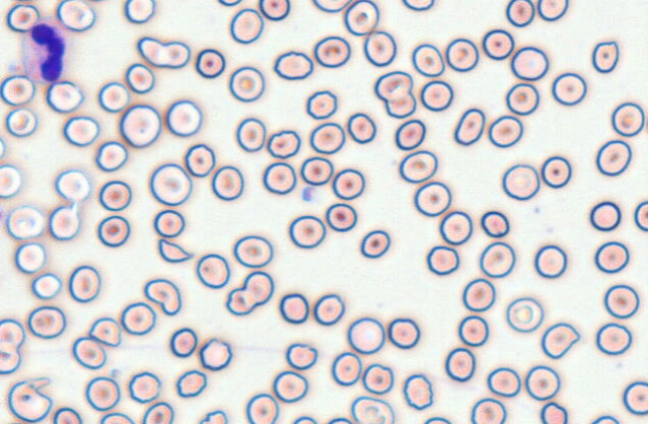GRAN: (20, 15, 72, 86)
PLT: (300, 185, 320, 204)
RBC: (119, 103, 162, 148), (149, 162, 192, 206), (137, 36, 190, 69), (346, 316, 385, 354), (5, 204, 46, 240), (501, 163, 540, 200), (165, 99, 202, 137), (510, 45, 549, 81), (595, 139, 632, 176), (505, 296, 543, 332), (413, 180, 451, 216), (233, 234, 273, 268), (524, 364, 560, 401), (479, 241, 515, 278), (228, 65, 264, 102), (27, 305, 66, 339), (398, 149, 437, 183), (603, 283, 639, 319), (343, 0, 379, 36), (288, 214, 326, 248), (46, 79, 84, 113), (68, 264, 101, 303), (195, 252, 230, 288), (229, 7, 263, 44), (374, 70, 413, 102), (350, 395, 394, 423), (85, 376, 120, 411), (54, 168, 90, 202), (120, 301, 156, 335), (595, 322, 632, 355), (313, 35, 350, 68), (453, 107, 485, 145), (56, 0, 95, 31), (273, 50, 313, 80), (272, 370, 308, 403), (211, 164, 244, 200), (309, 121, 345, 154), (487, 114, 523, 147), (611, 101, 644, 137), (363, 30, 396, 66), (62, 115, 100, 146), (533, 244, 567, 278), (439, 210, 472, 245), (594, 240, 629, 273), (551, 72, 586, 105), (445, 37, 478, 72), (48, 204, 80, 240), (402, 373, 433, 410), (72, 336, 106, 369), (462, 278, 495, 312), (331, 167, 365, 200), (262, 161, 296, 194), (96, 214, 130, 247), (505, 82, 539, 115), (411, 43, 444, 77), (242, 270, 274, 305), (199, 337, 232, 370), (127, 371, 161, 403), (0, 74, 34, 106), (98, 179, 132, 211), (486, 366, 521, 397), (444, 347, 475, 382), (235, 117, 266, 152), (97, 81, 130, 113), (14, 241, 46, 274), (387, 317, 420, 349), (420, 79, 453, 111), (245, 392, 279, 423), (184, 143, 215, 177), (331, 351, 361, 386), (457, 314, 489, 346), (313, 293, 345, 325), (482, 28, 514, 60), (95, 140, 128, 171), (540, 155, 571, 188), (361, 363, 393, 394), (278, 292, 309, 324), (589, 200, 621, 231), (394, 118, 425, 150), (426, 245, 459, 275), (266, 129, 300, 158), (5, 107, 37, 137), (153, 208, 185, 238), (325, 202, 357, 232), (305, 89, 337, 119), (346, 112, 376, 144), (6, 3, 39, 32), (300, 156, 333, 185), (470, 397, 506, 423), (175, 369, 207, 398), (591, 40, 619, 73), (195, 48, 225, 78), (125, 62, 154, 93), (359, 229, 390, 258), (622, 380, 647, 415), (384, 91, 416, 118), (169, 327, 197, 357), (31, 272, 62, 299), (480, 210, 509, 238), (505, 0, 535, 27), (0, 318, 25, 349), (0, 163, 22, 198), (123, 0, 155, 23), (141, 401, 174, 423), (0, 340, 21, 374), (537, 0, 568, 21), (258, 0, 290, 20), (539, 401, 568, 423), (52, 406, 82, 423), (312, 0, 351, 13), (99, 411, 135, 423), (198, 409, 227, 423), (634, 200, 647, 231), (401, 0, 434, 11), (590, 414, 620, 423), (291, 415, 318, 423), (422, 416, 451, 423), (326, 416, 353, 423), (217, 0, 242, 6), (0, 136, 6, 159)
Schistocyte: (9, 375, 53, 423), (542, 322, 580, 360), (145, 279, 182, 316), (89, 318, 122, 347), (286, 343, 318, 369), (160, 239, 193, 262), (227, 289, 252, 316)
